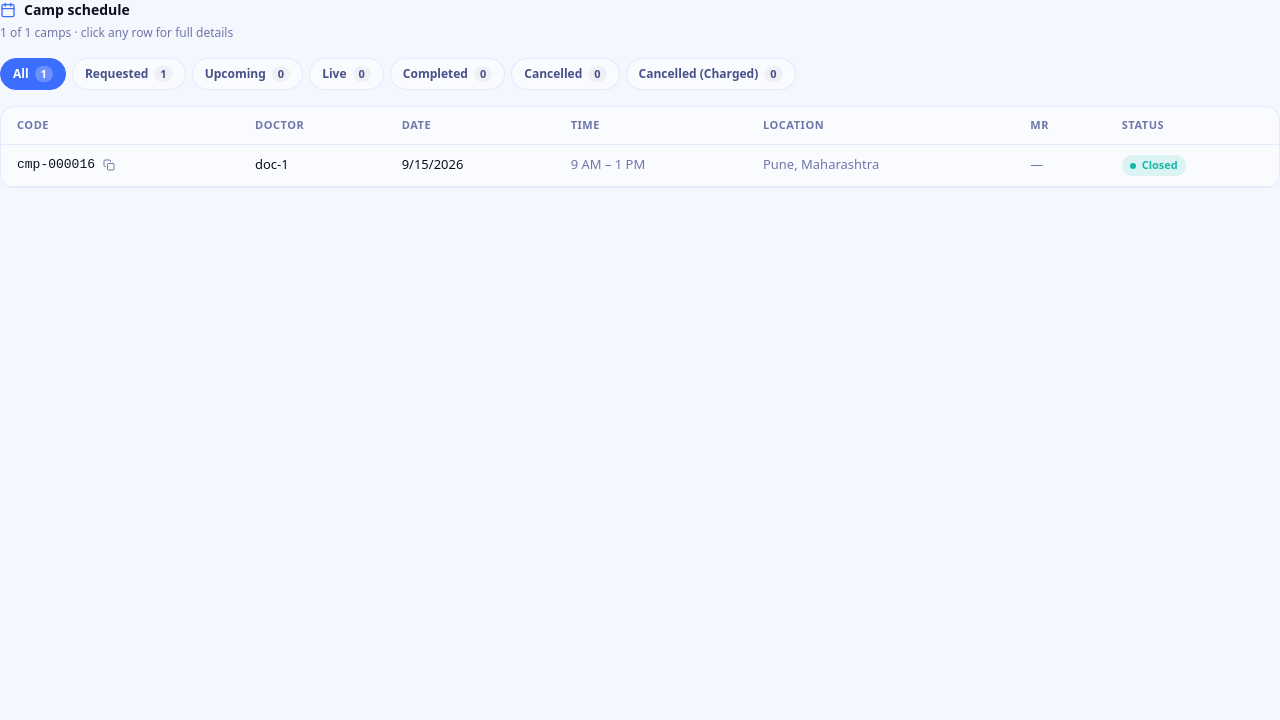
Test: MyCampScheduleTab › clicking a row opens the real PharmaCampDetailDrawer for that camp
Click the text "cmp-000016".
click(67, 165)  # box top-left (17, 157), bottom-right (117, 173)
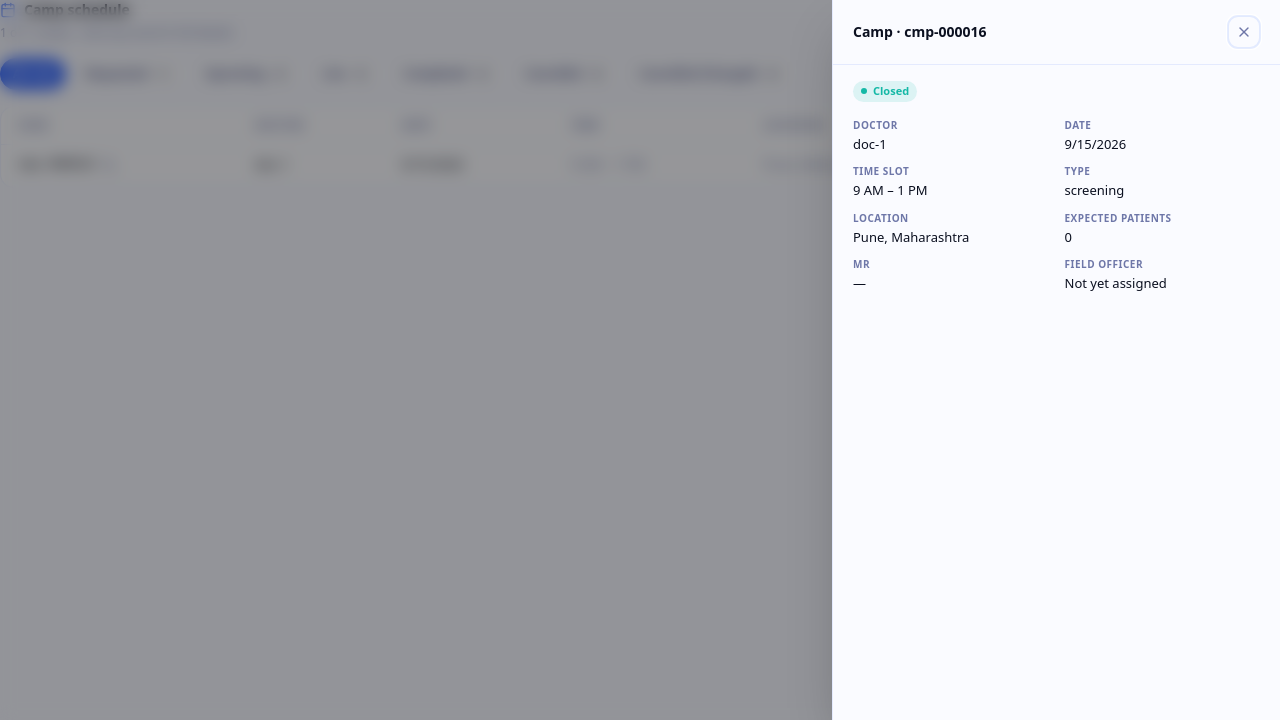
Expected: the heading "Camp · cmp-000016" is shown, top-left (853, 22), bottom-right (987, 42)
